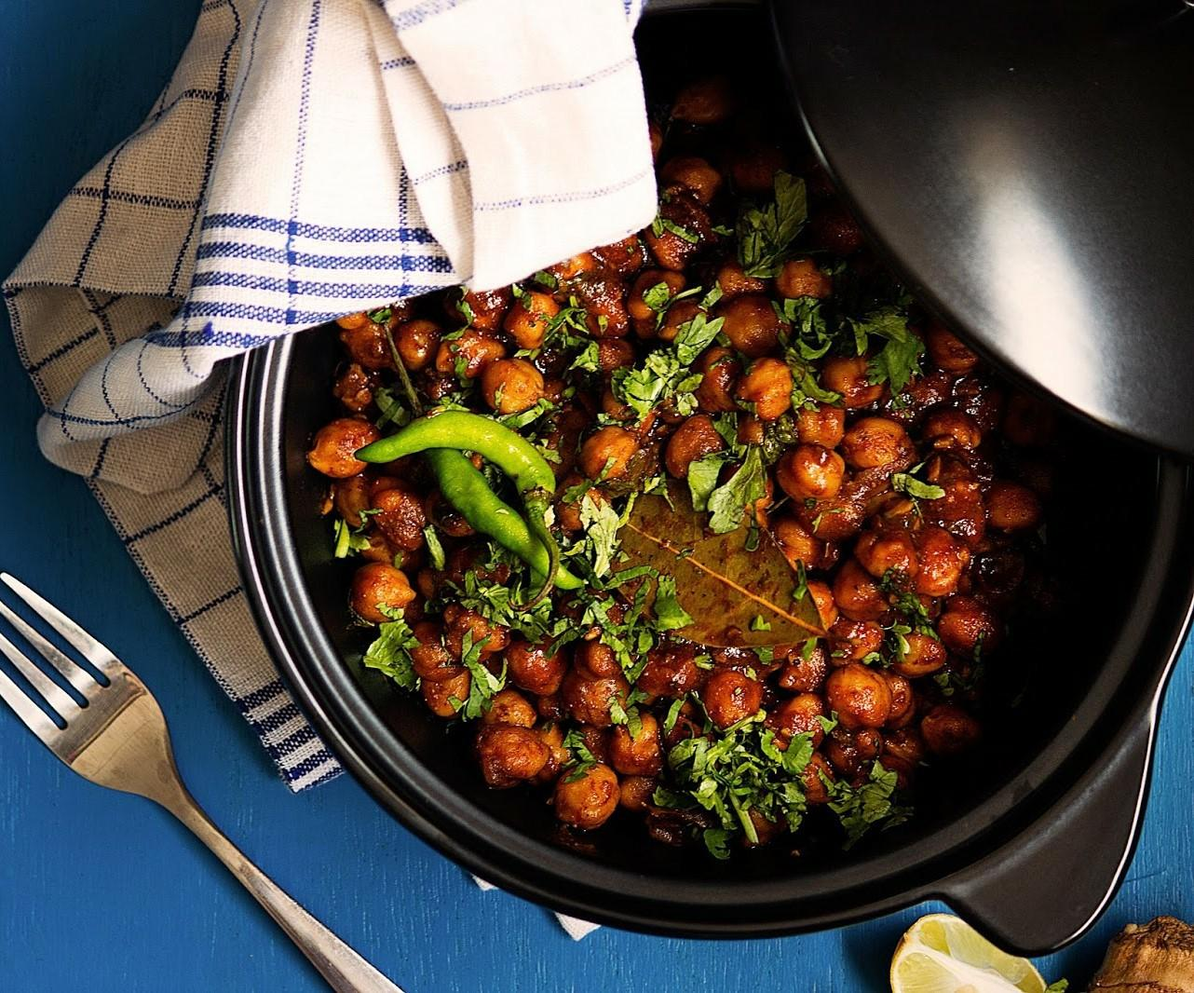Chole: (302, 66, 1050, 852)
